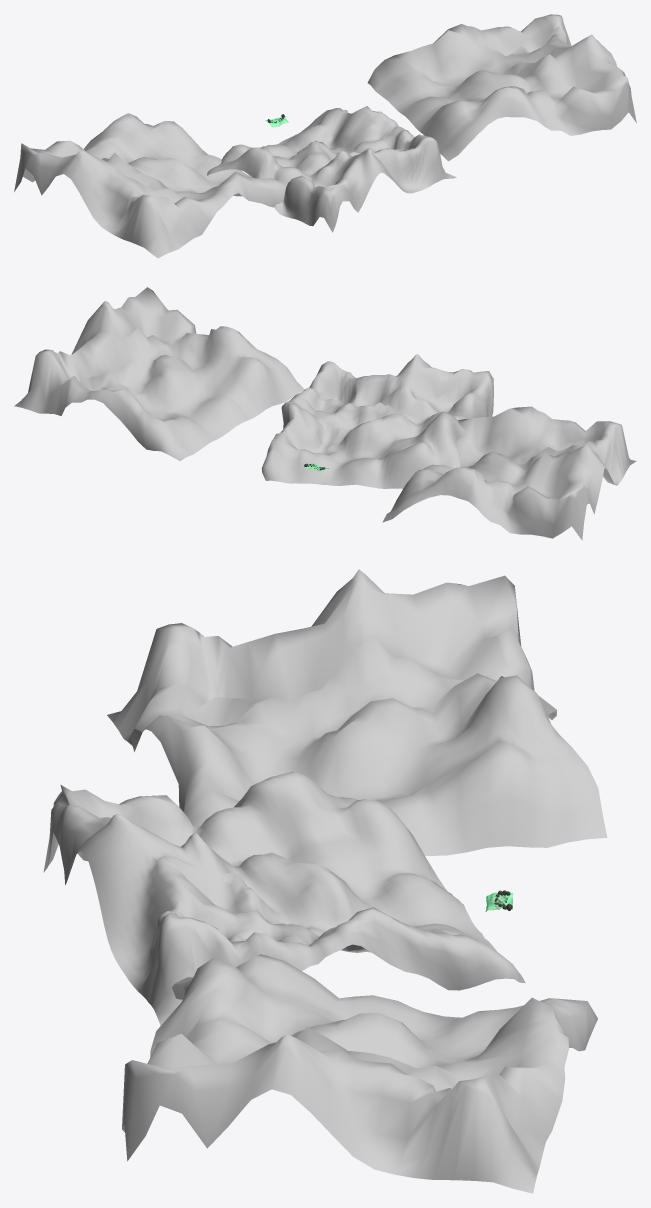
File: Mesh_PlanetTerrain.FBX
The picture shows the model from 3 angles, top to bottom: view 1: azimuth 30°, elevation 25°; view 2: azimuth 150°, elevation 25°; view 3: azimuth 270°, elevation 25°; orthographic projection. The views are drawn at different scales.
Visible parts, largest first — view 1: Mesh_MountainsLow001, Mesh_MountainsLow, Mesh_Mountains002; view 2: Mesh_MountainsLow001, Mesh_Mountains002, Mesh_MountainsLow; view 3: Mesh_MountainsLow, Mesh_MountainsLow001, Mesh_Mountains002.
Boxes of the visible parts, x1,y1,x2,y2 form: Mesh_MountainsLow001: [367, 14, 636, 161]; Mesh_MountainsLow: [14, 113, 287, 258]; Mesh_Mountains002: [207, 106, 456, 232]; Mesh_MountainsLow001: [14, 287, 304, 461]; Mesh_Mountains002: [261, 354, 493, 488]; Mesh_MountainsLow: [382, 406, 636, 540]; Mesh_MountainsLow: [107, 569, 607, 856]; Mesh_MountainsLow001: [122, 954, 597, 1193]; Mesh_Mountains002: [43, 772, 525, 1025].
Size of the model in its own units: 369236 by 52207 by 163187.
